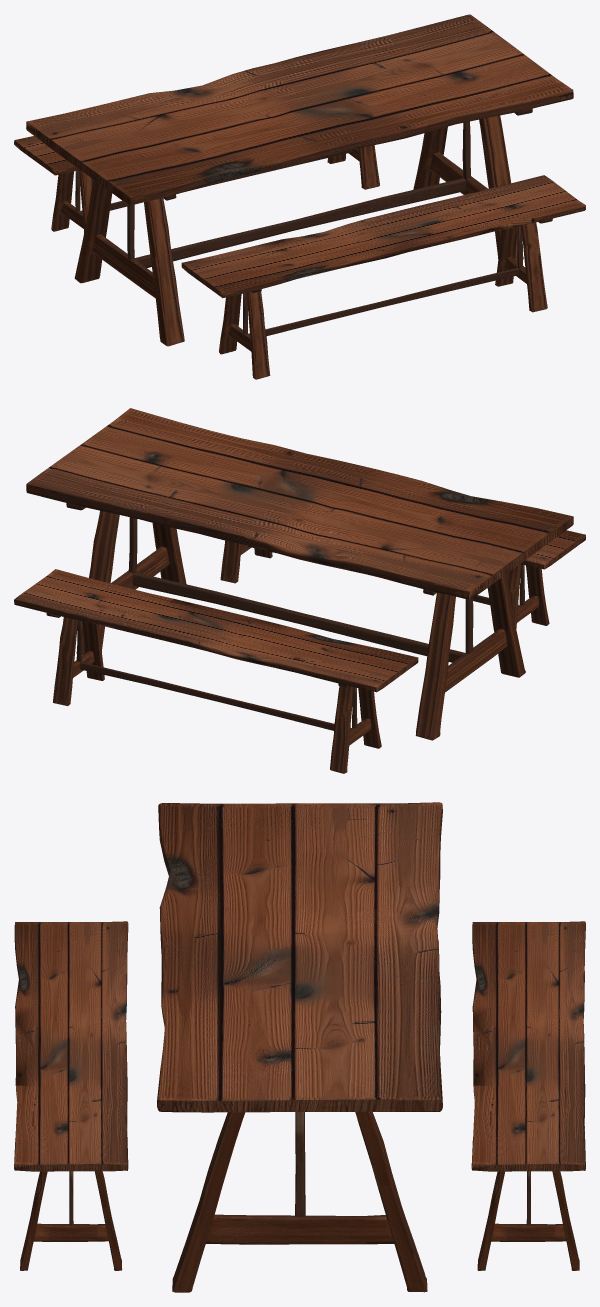
The model's file is dining-set.glb.
3 views of the same model, one above another, from view 1: azimuth 30°, elevation 25°; view 2: azimuth 150°, elevation 25°; view 3: azimuth 270°, elevation 25° (orthographic). The views are drawn at different scales.
Bounding box in the file's own units: 2.2 × 0.78 × 1.8.
1 material, 1 textured.
